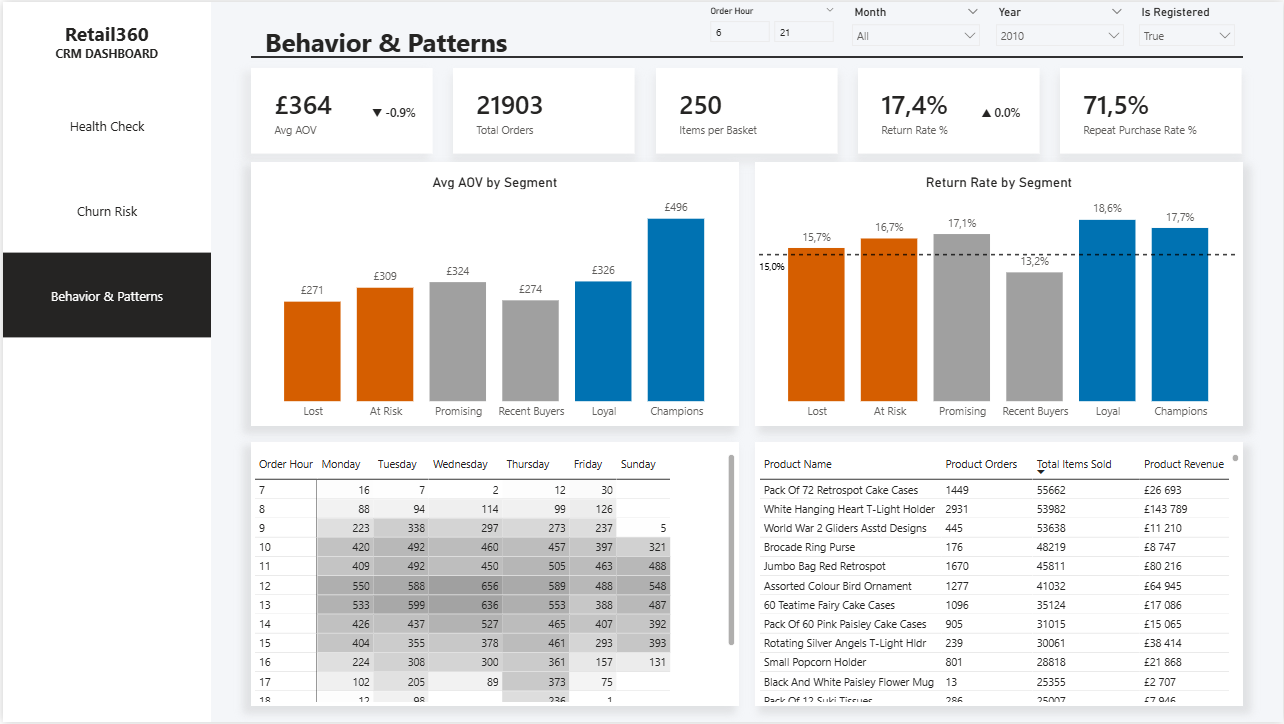

What the dashboard file says about the page in this screenshot:
{"tool":"powerbi","page":{"name":"Behavior & Patterns","canvas":[1600,900],"ordinal":2},"visuals":[{"type":"shape","box":[0,0,260,900],"z":0},{"type":"pageNavigator","box":[0,101.1,260,320],"z":1000},{"type":"textbox","box":[22.2,17.8,214.4,84.4],"z":2000},{"type":"shape","box":[310,14.1,1240,110],"z":3000},{"type":"textbox","box":[278.6,22.6,400,60],"z":4000},{"type":"cardVisual","fields":{"Data":["_Mensures.Avg AOV"]},"box":[310,82.9,227.1,107.1],"z":5000},{"type":"cardVisual","fields":{"Data":["_Mensures.Total Orders"]},"box":[562.9,82.9,227.1,107.1],"z":6000},{"type":"cardVisual","fields":{"Data":["_Mensures.Items per Basket"]},"box":[815.7,82.9,227.1,107.1],"z":7000},{"type":"cardVisual","fields":{"Data":["_Mensures.Return Rate %"]},"box":[1068.6,82.9,227.1,107.1],"z":8000},{"type":"cardVisual","fields":{"Data":["_Mensures.Repeat Purchase Rate %"]},"box":[1321.4,82.9,227.1,107.1],"z":9000},{"type":"slicer","fields":{"Values":["Calendar.Year"]},"box":[1231.4,0,180,74.3],"z":10000},{"type":"slicer","fields":{"Values":["Calendar.Month"]},"box":[1051.4,0,180,74.3],"z":11000},{"type":"columnChart","title":"Avg AOV by Segment","fields":{"Y":["_Mensures.Avg AOV"],"Category":["Customer Segments.RFM Segment"]},"box":[310,200,610,330],"z":12000},{"type":"columnChart","title":"Return Rate by Segment","fields":{"Y":["_Mensures.Return Rate %"],"Category":["Customer Segments.RFM Segment"]},"box":[940,200,610,330],"z":13000},{"type":"pivotTable","title":"Day × Hour Heatmap","fields":{"Values":["_Mensures.Total Orders"],"Columns":["Calendar.Day Name"],"Rows":["Orders.Order Hour"]},"box":[310,550,610,330],"z":14000},{"type":"tableEx","title":"Top Products Table","fields":{"Values":["Products.Product Name","_Mensures.Product Orders","_Mensures.Total Items Sold","_Mensures.Product Revenue"]},"box":[940,550,610,330],"z":15000},{"type":"slicer","fields":{"Values":["Customers.Is Registered"]},"box":[1410,0,140,74],"z":16000},{"type":"slicer","fields":{"Values":["Orders.Order Hour"]},"box":[871.4,0,180,74.3],"z":17000},{"type":"cardVisual","fields":{"Data":["_Mensures.AOV MoM %"]},"box":[440,108.6,97.1,55.7],"z":18000},{"type":"cardVisual","fields":{"Data":["_Mensures.Return Rate MoM %"]},"box":[1198.6,108.6,97.1,55.7],"z":19000}]}

Visuals, with their boxes on the page's 1600x900 design canvas (x1, y1, x2, y2). These are canvas units, not pixel positions in the 1284x724 screenshot, which may show the page scaled, cropped or inside an application window:
shape: crop(0, 0, 260, 900)
pageNavigator: crop(0, 101, 260, 421)
textbox: crop(22, 18, 237, 102)
shape: crop(310, 14, 1550, 124)
textbox: crop(279, 23, 679, 83)
cardVisual - _Mensures.Avg AOV: crop(310, 83, 537, 190)
cardVisual - _Mensures.Total Orders: crop(563, 83, 790, 190)
cardVisual - _Mensures.Items per Basket: crop(816, 83, 1043, 190)
cardVisual - _Mensures.Return Rate %: crop(1069, 83, 1296, 190)
cardVisual - _Mensures.Repeat Purchase Rate %: crop(1321, 83, 1548, 190)
slicer - Calendar.Year: crop(1231, 0, 1411, 74)
slicer - Calendar.Month: crop(1051, 0, 1231, 74)
"Avg AOV by Segment" columnChart: crop(310, 200, 920, 530)
"Return Rate by Segment" columnChart: crop(940, 200, 1550, 530)
"Day × Hour Heatmap" pivotTable: crop(310, 550, 920, 880)
"Top Products Table" tableEx: crop(940, 550, 1550, 880)
slicer - Customers.Is Registered: crop(1410, 0, 1550, 74)
slicer - Orders.Order Hour: crop(871, 0, 1051, 74)
cardVisual - _Mensures.AOV MoM %: crop(440, 109, 537, 164)
cardVisual - _Mensures.Return Rate MoM %: crop(1199, 109, 1296, 164)
